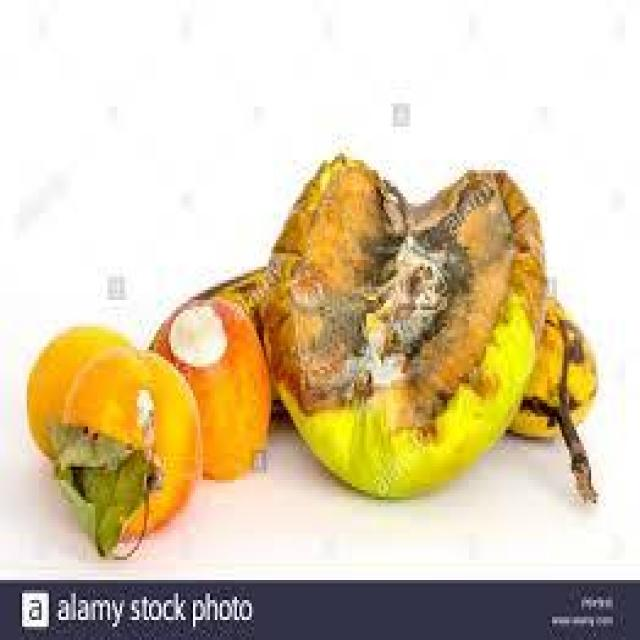organic: (27, 157, 596, 560)
